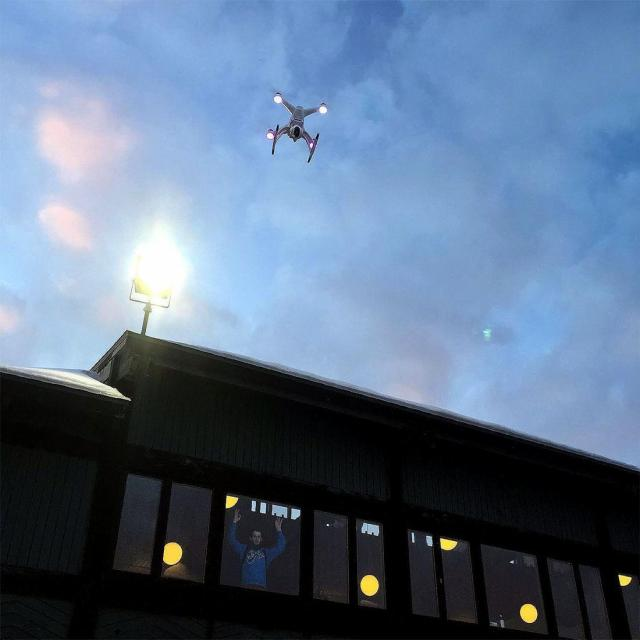UAV: (264, 91, 332, 163)
